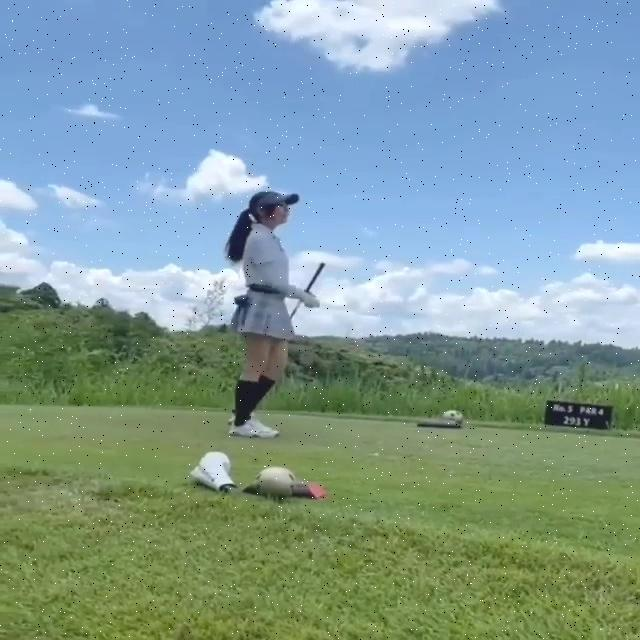golf club-handle: (290, 261, 326, 317)
